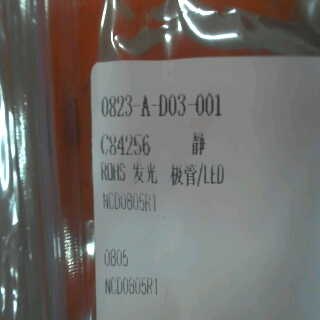LED: (128, 162, 230, 183)
